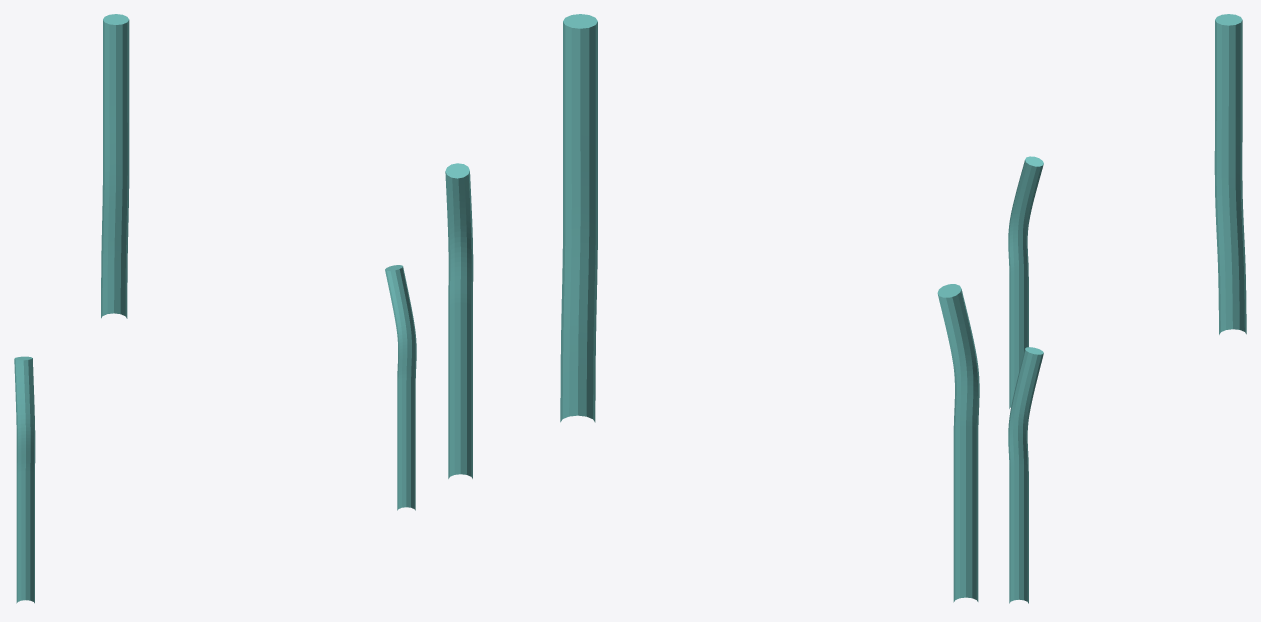
File: embryo_etapa4.glb
3 renders of one model, left to right at view 1: azimuth 30°, elevation 25°; view 2: azimuth 150°, elevation 25°; view 3: azimuth 270°, elevation 25°, orthographic. The views are drawn at different scales.
Parts seen in each view (by area): view 1: Basilar primitiva (fusão longitudinal), Anastomose longitudinal cervical — L, Anastomose longitudinal cervical — R; view 2: Basilar primitiva (fusão longitudinal), Anastomose longitudinal cervical — L, Anastomose longitudinal cervical — R; view 3: Basilar primitiva (fusão longitudinal), Anastomose longitudinal cervical — R, Anastomose longitudinal cervical — L.
Part boxes in pixels (x1,y1,x2,y2): Basilar primitiva (fusão longitudinal): (101,14,129,318); Anastomose longitudinal cervical — L: (14,356,35,603); Anastomose longitudinal cervical — R: (385,265,416,510); Basilar primitiva (fusão longitudinal): (560,14,597,422); Anastomose longitudinal cervical — L: (937,284,979,602); Anastomose longitudinal cervical — R: (445,163,473,478); Basilar primitiva (fusão longitudinal): (1214,14,1246,334); Anastomose longitudinal cervical — R: (1008,347,1043,603); Anastomose longitudinal cervical — L: (1008,156,1043,408).
Size of the model in its own units: 4.7 by 5.25 by 2.33.
